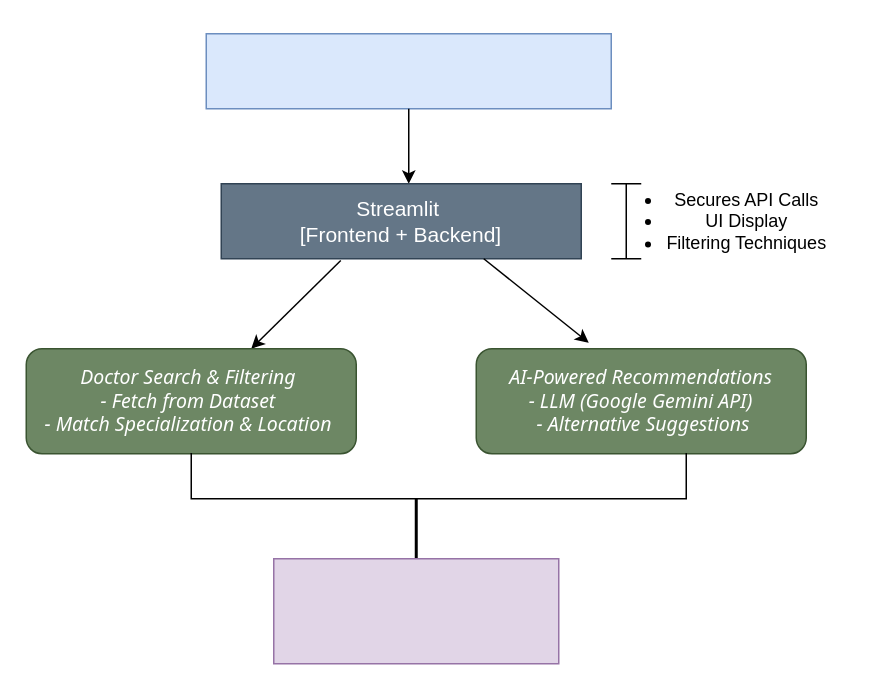
The diagram is 870 pixels wide and 692 high, and some of its shapes have lost their labels. The shapes that lost their labels are listed below. From the top down, each one's centre as x and y in pixels, then its label:
point 408,70: Doctor Recommendation System
point 415,610: Cloud Deployment - Secure API Key Handling - Scalable & Fast Access
